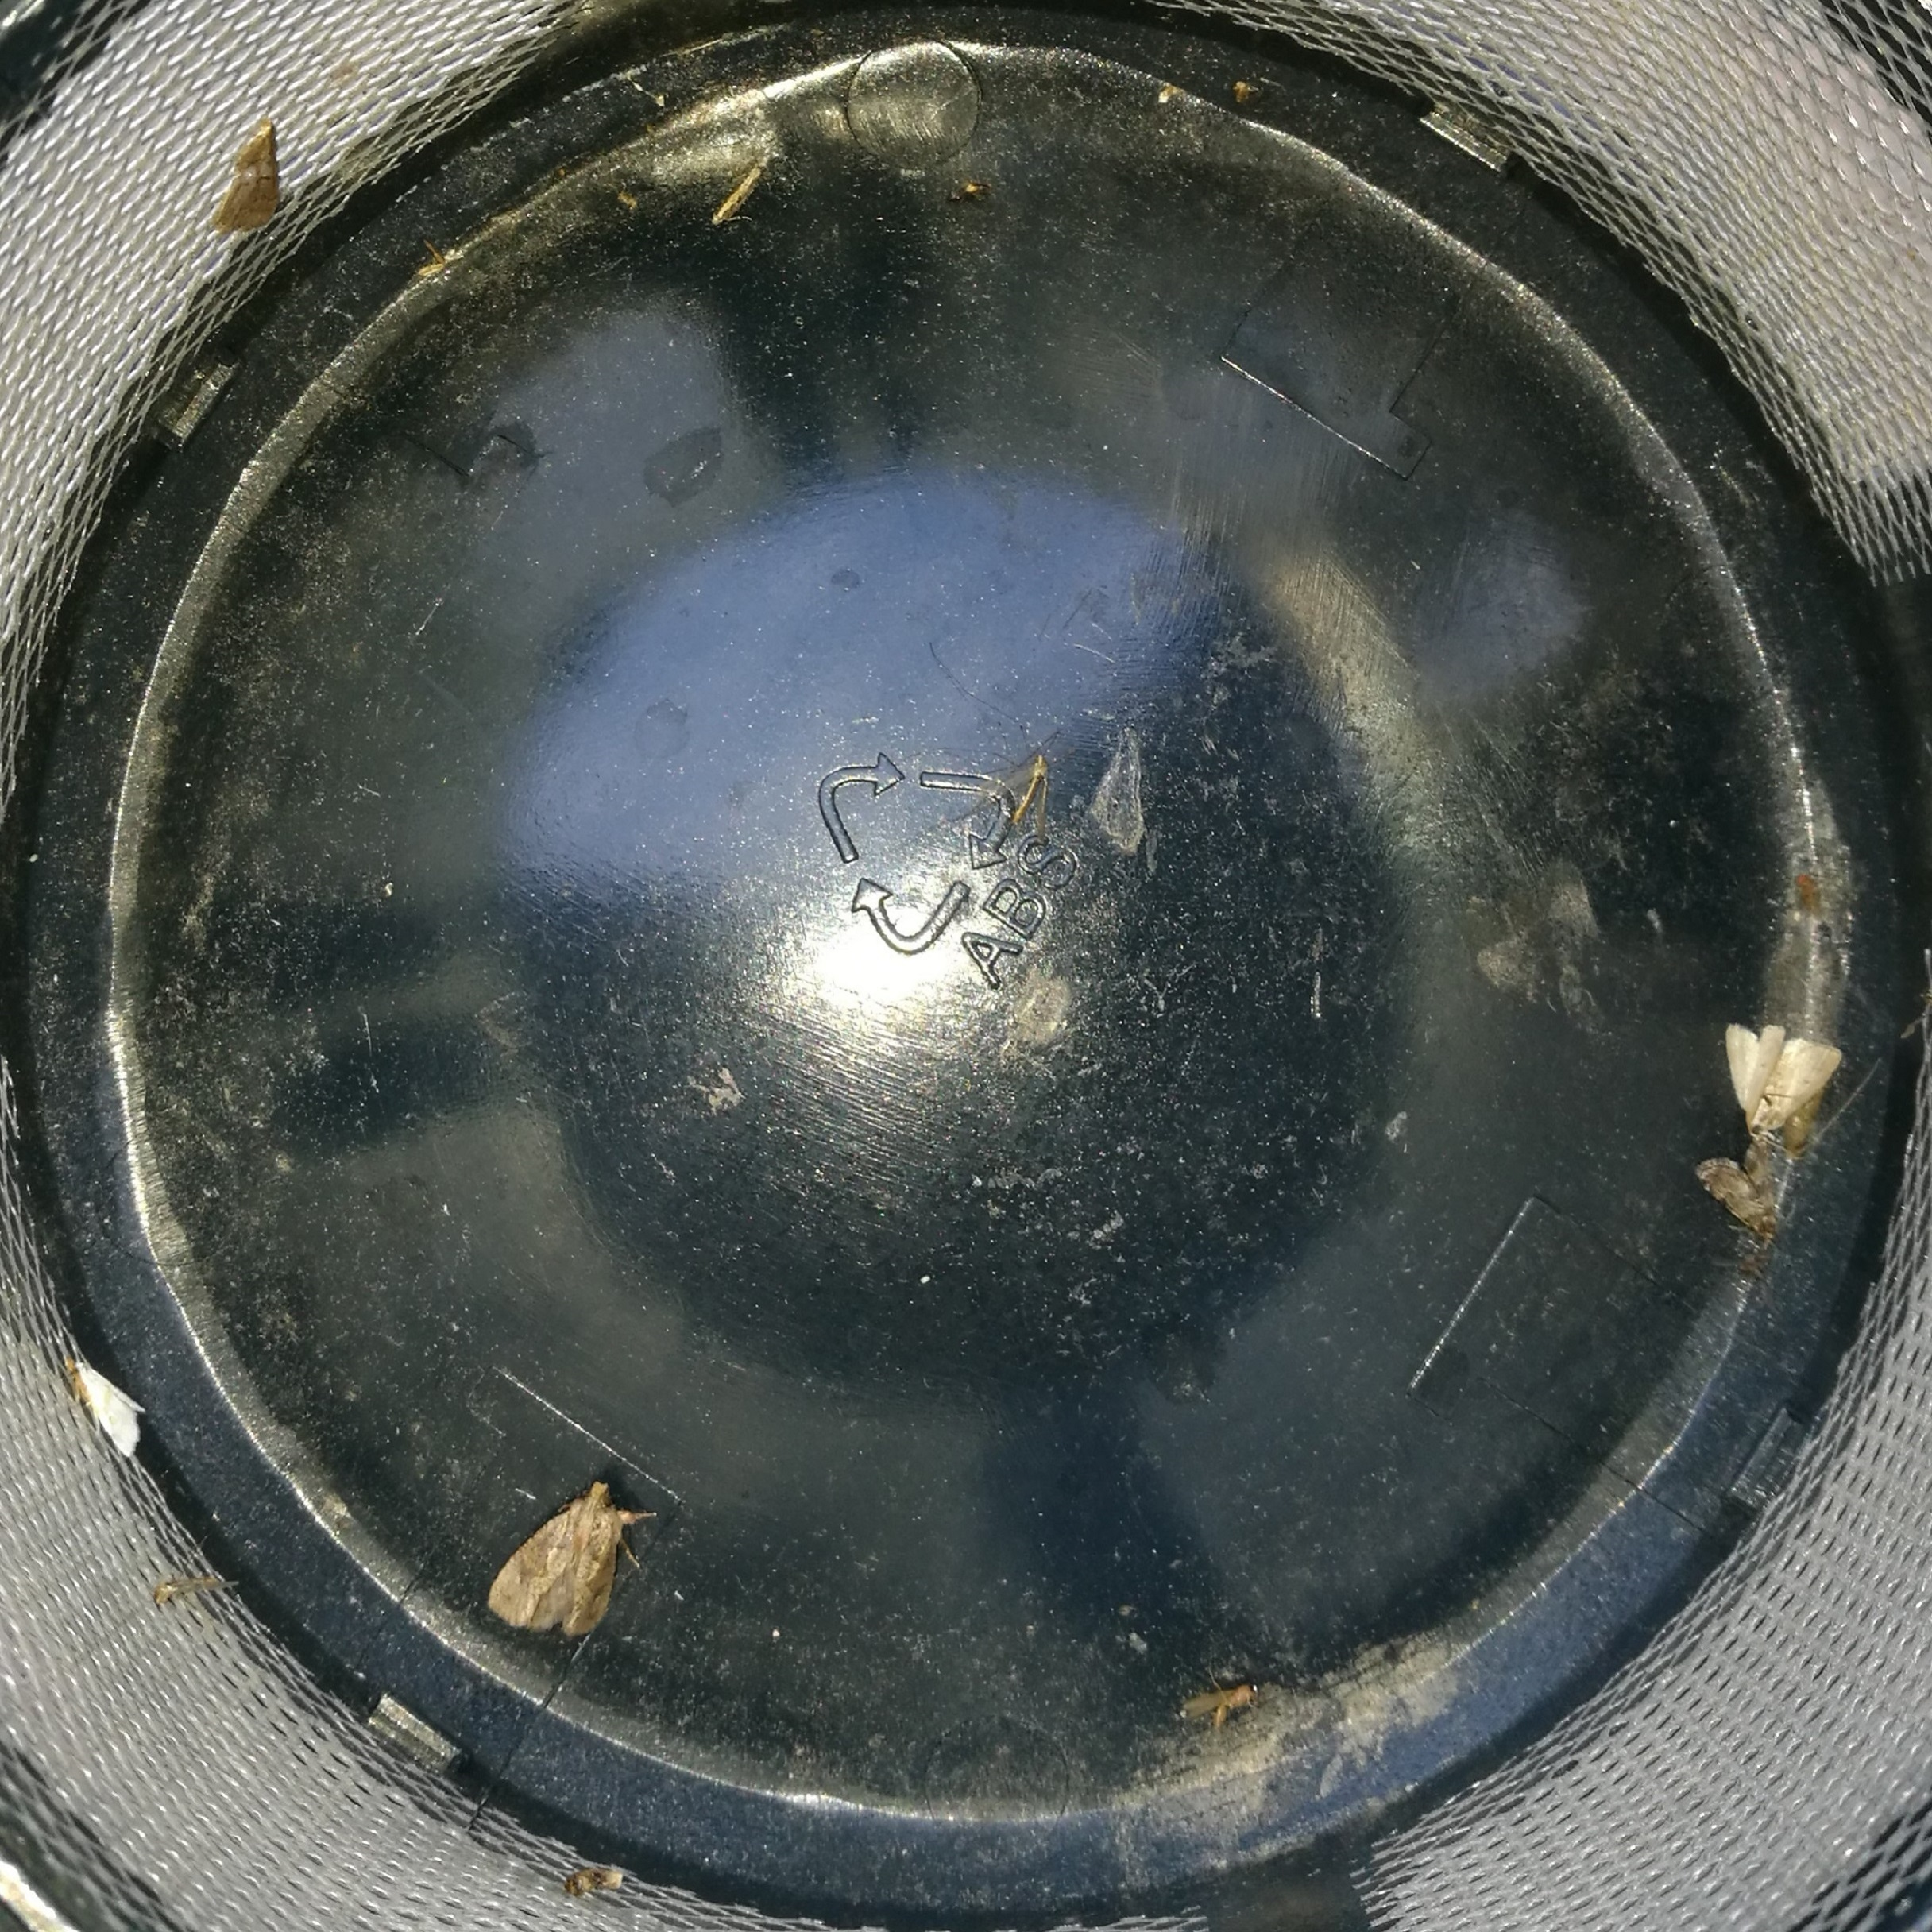moth: (485, 1481, 619, 1637), (1721, 1017, 1840, 1136), (1698, 1138, 1782, 1246)
